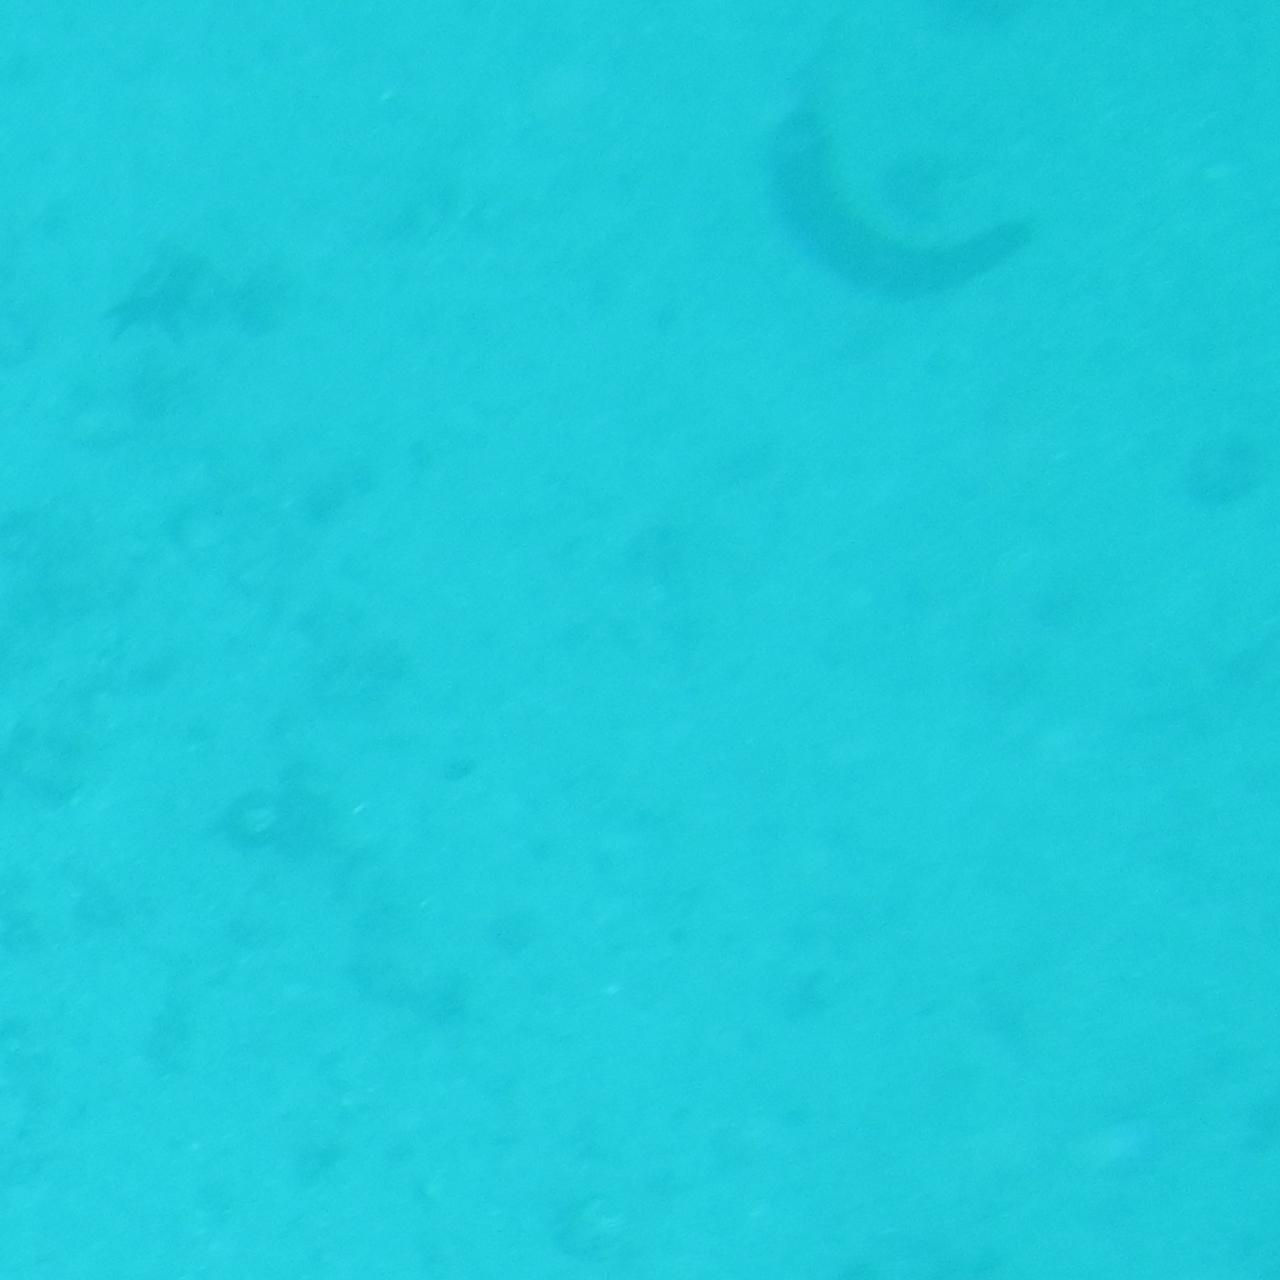Holothuria tubulosa: (750, 101, 1062, 307)
